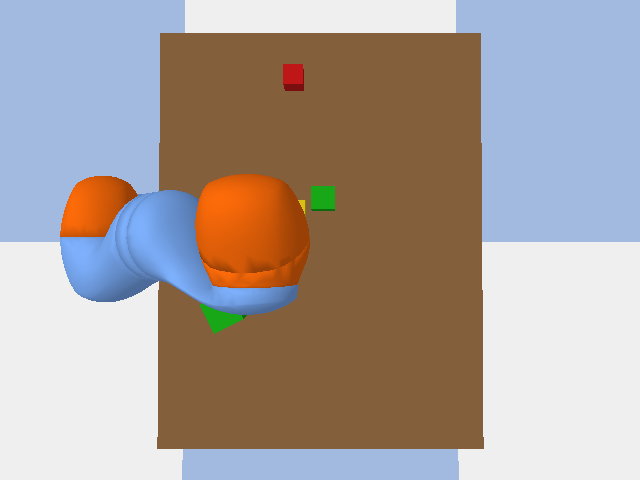green_obj: (200, 304, 246, 333), (311, 186, 334, 210)
red_obj: (283, 64, 303, 90)
yellow_obj: (298, 200, 305, 216)
